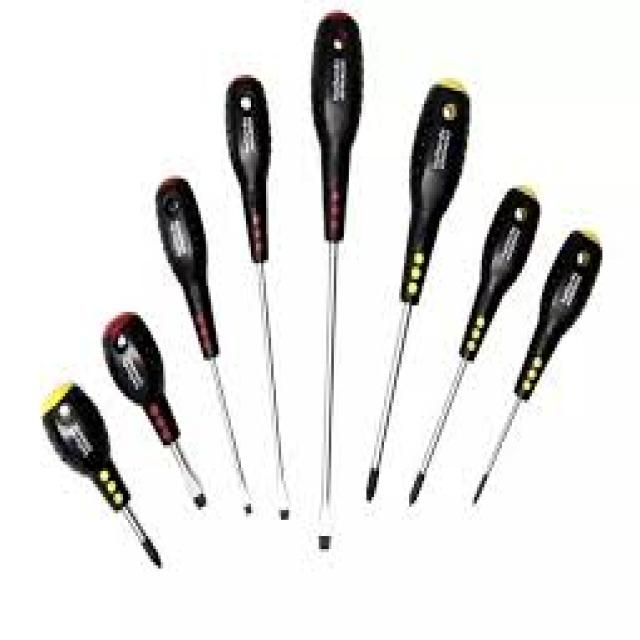screw driver: (132, 166, 262, 525), (292, 0, 357, 554), (13, 374, 167, 585)
